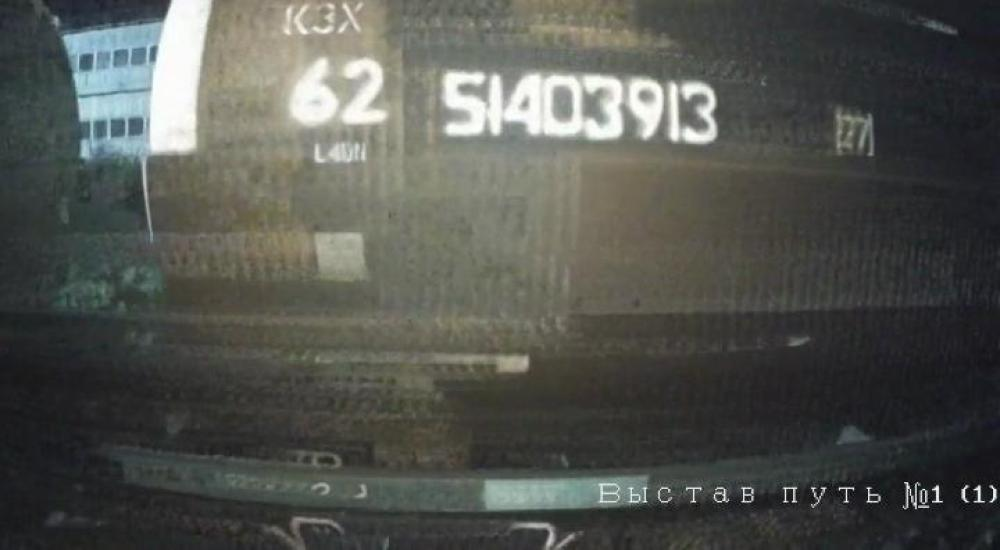Wagon-number: (432, 62, 729, 152)
